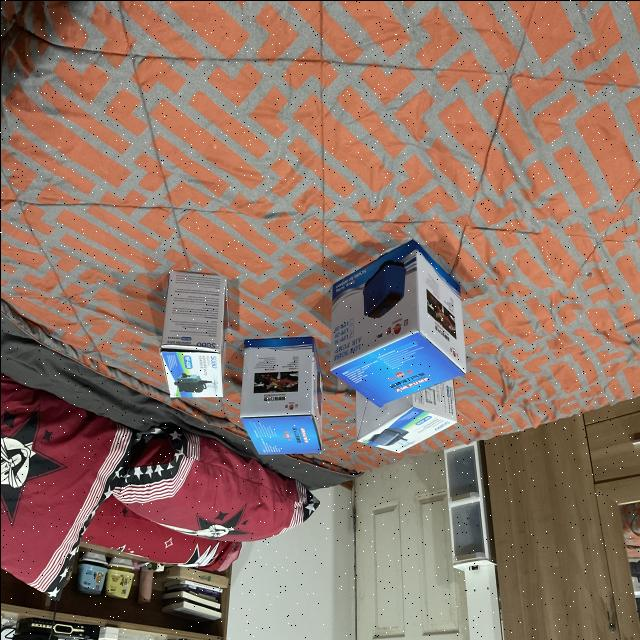SOBO_WP_4200: (350, 338, 464, 468), (148, 247, 234, 408)
YAMANO_LPP_20: (324, 238, 480, 412), (236, 329, 336, 472)
